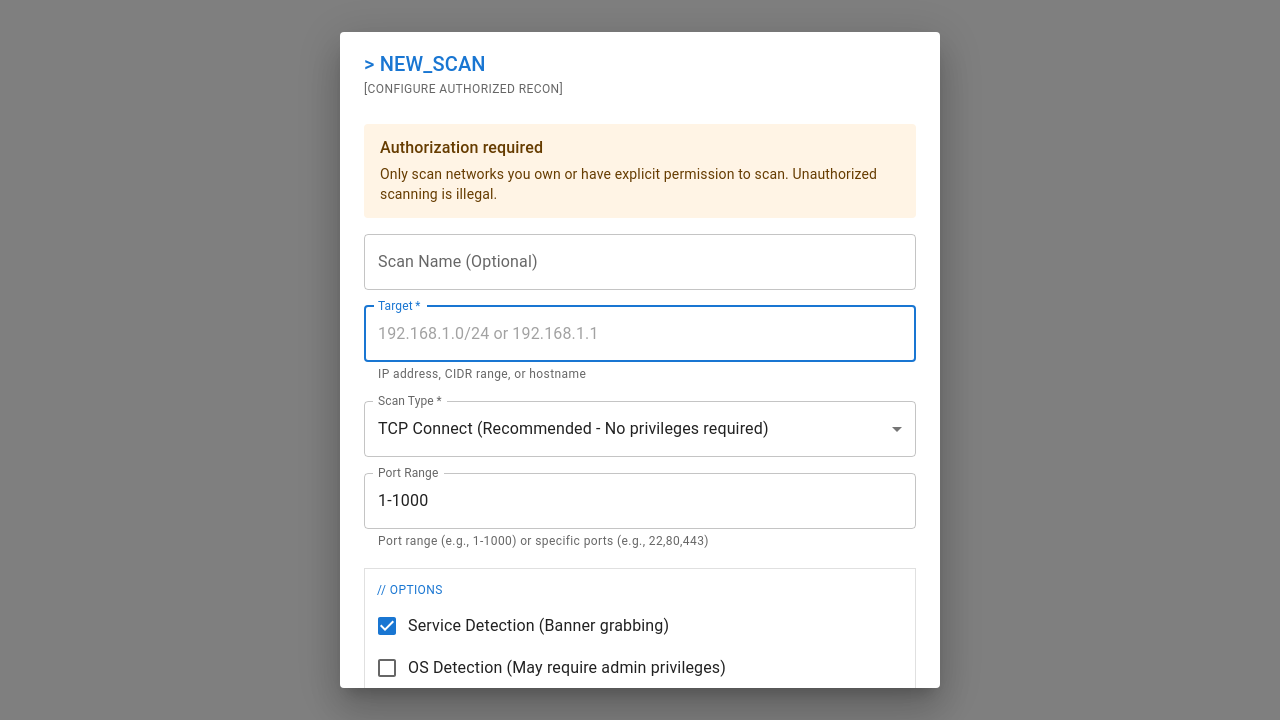
Scenario: ScanDialog › rejects a target above the host limit before calling the API
Type "10.0.0.0/8" into the field labelled "Target *".
click(640, 334); type("10.0.0.0/8")  # box [364, 306, 916, 362]
(page scrolled)
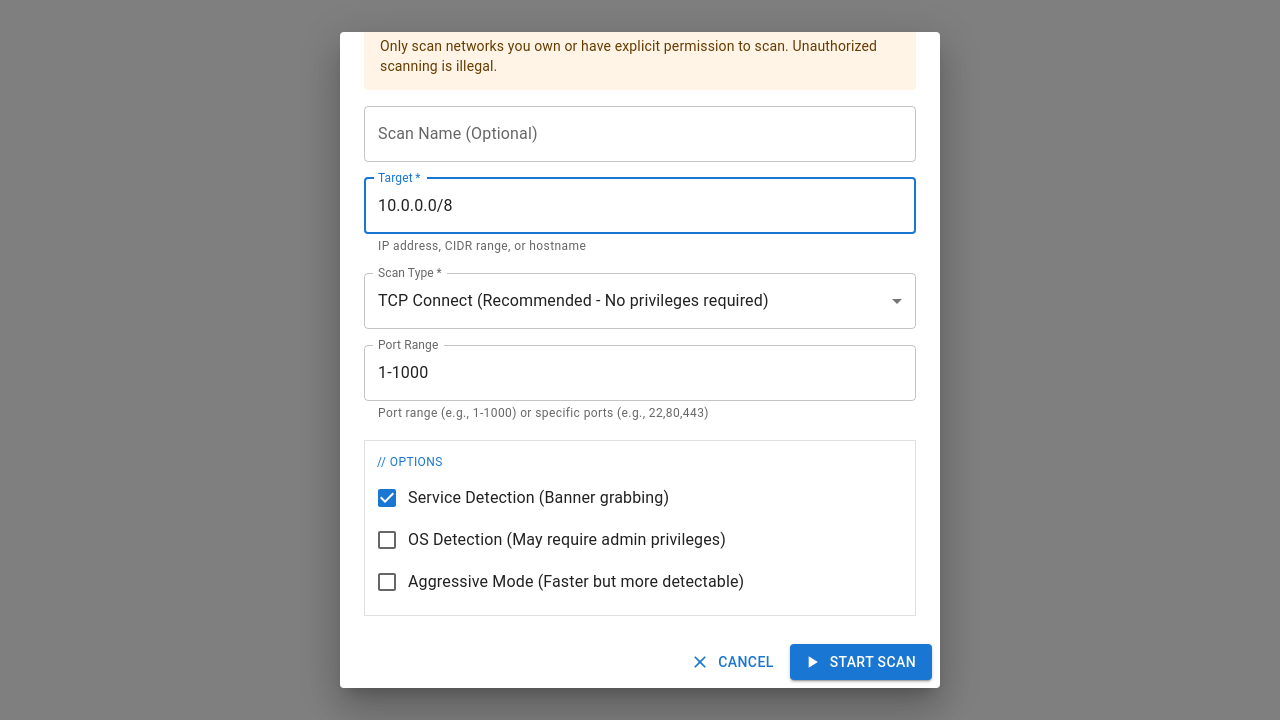
Click the button "Start Scan".
click(861, 662)  # box [790, 644, 932, 680]
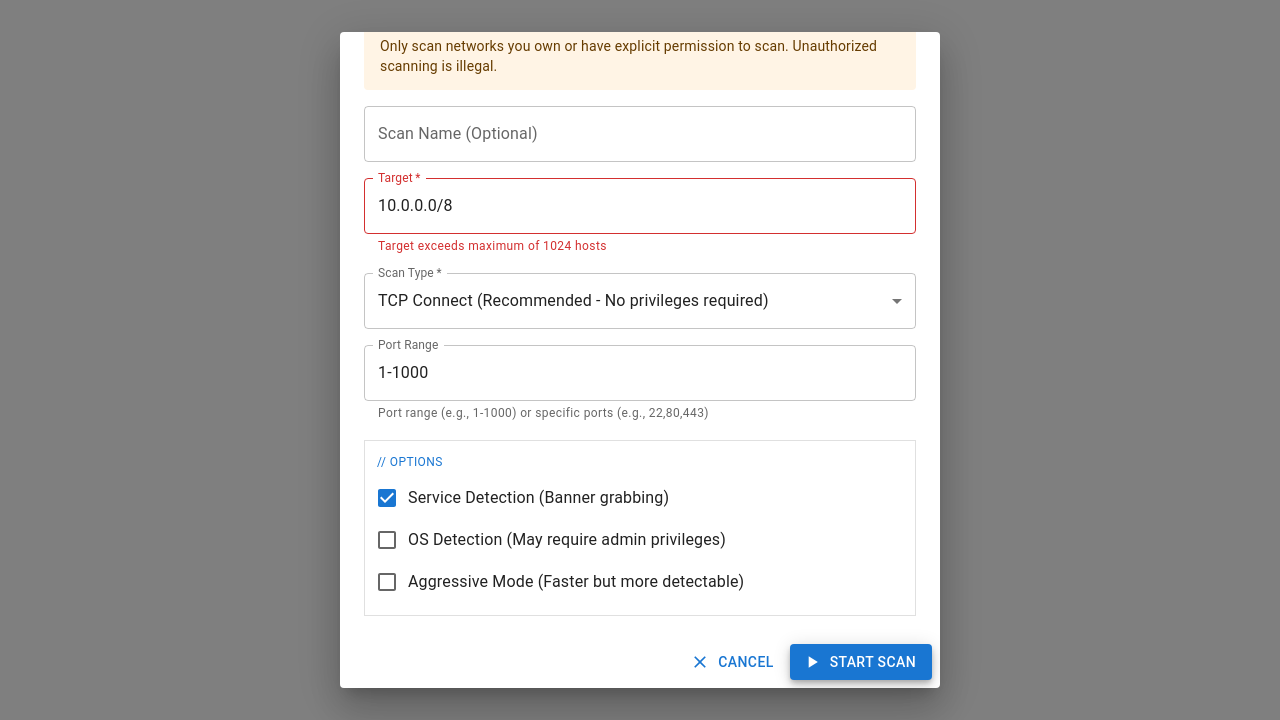
Expected: the text "Target exceeds maximum of 1024 hosts" is shown, [378, 239, 607, 253]
